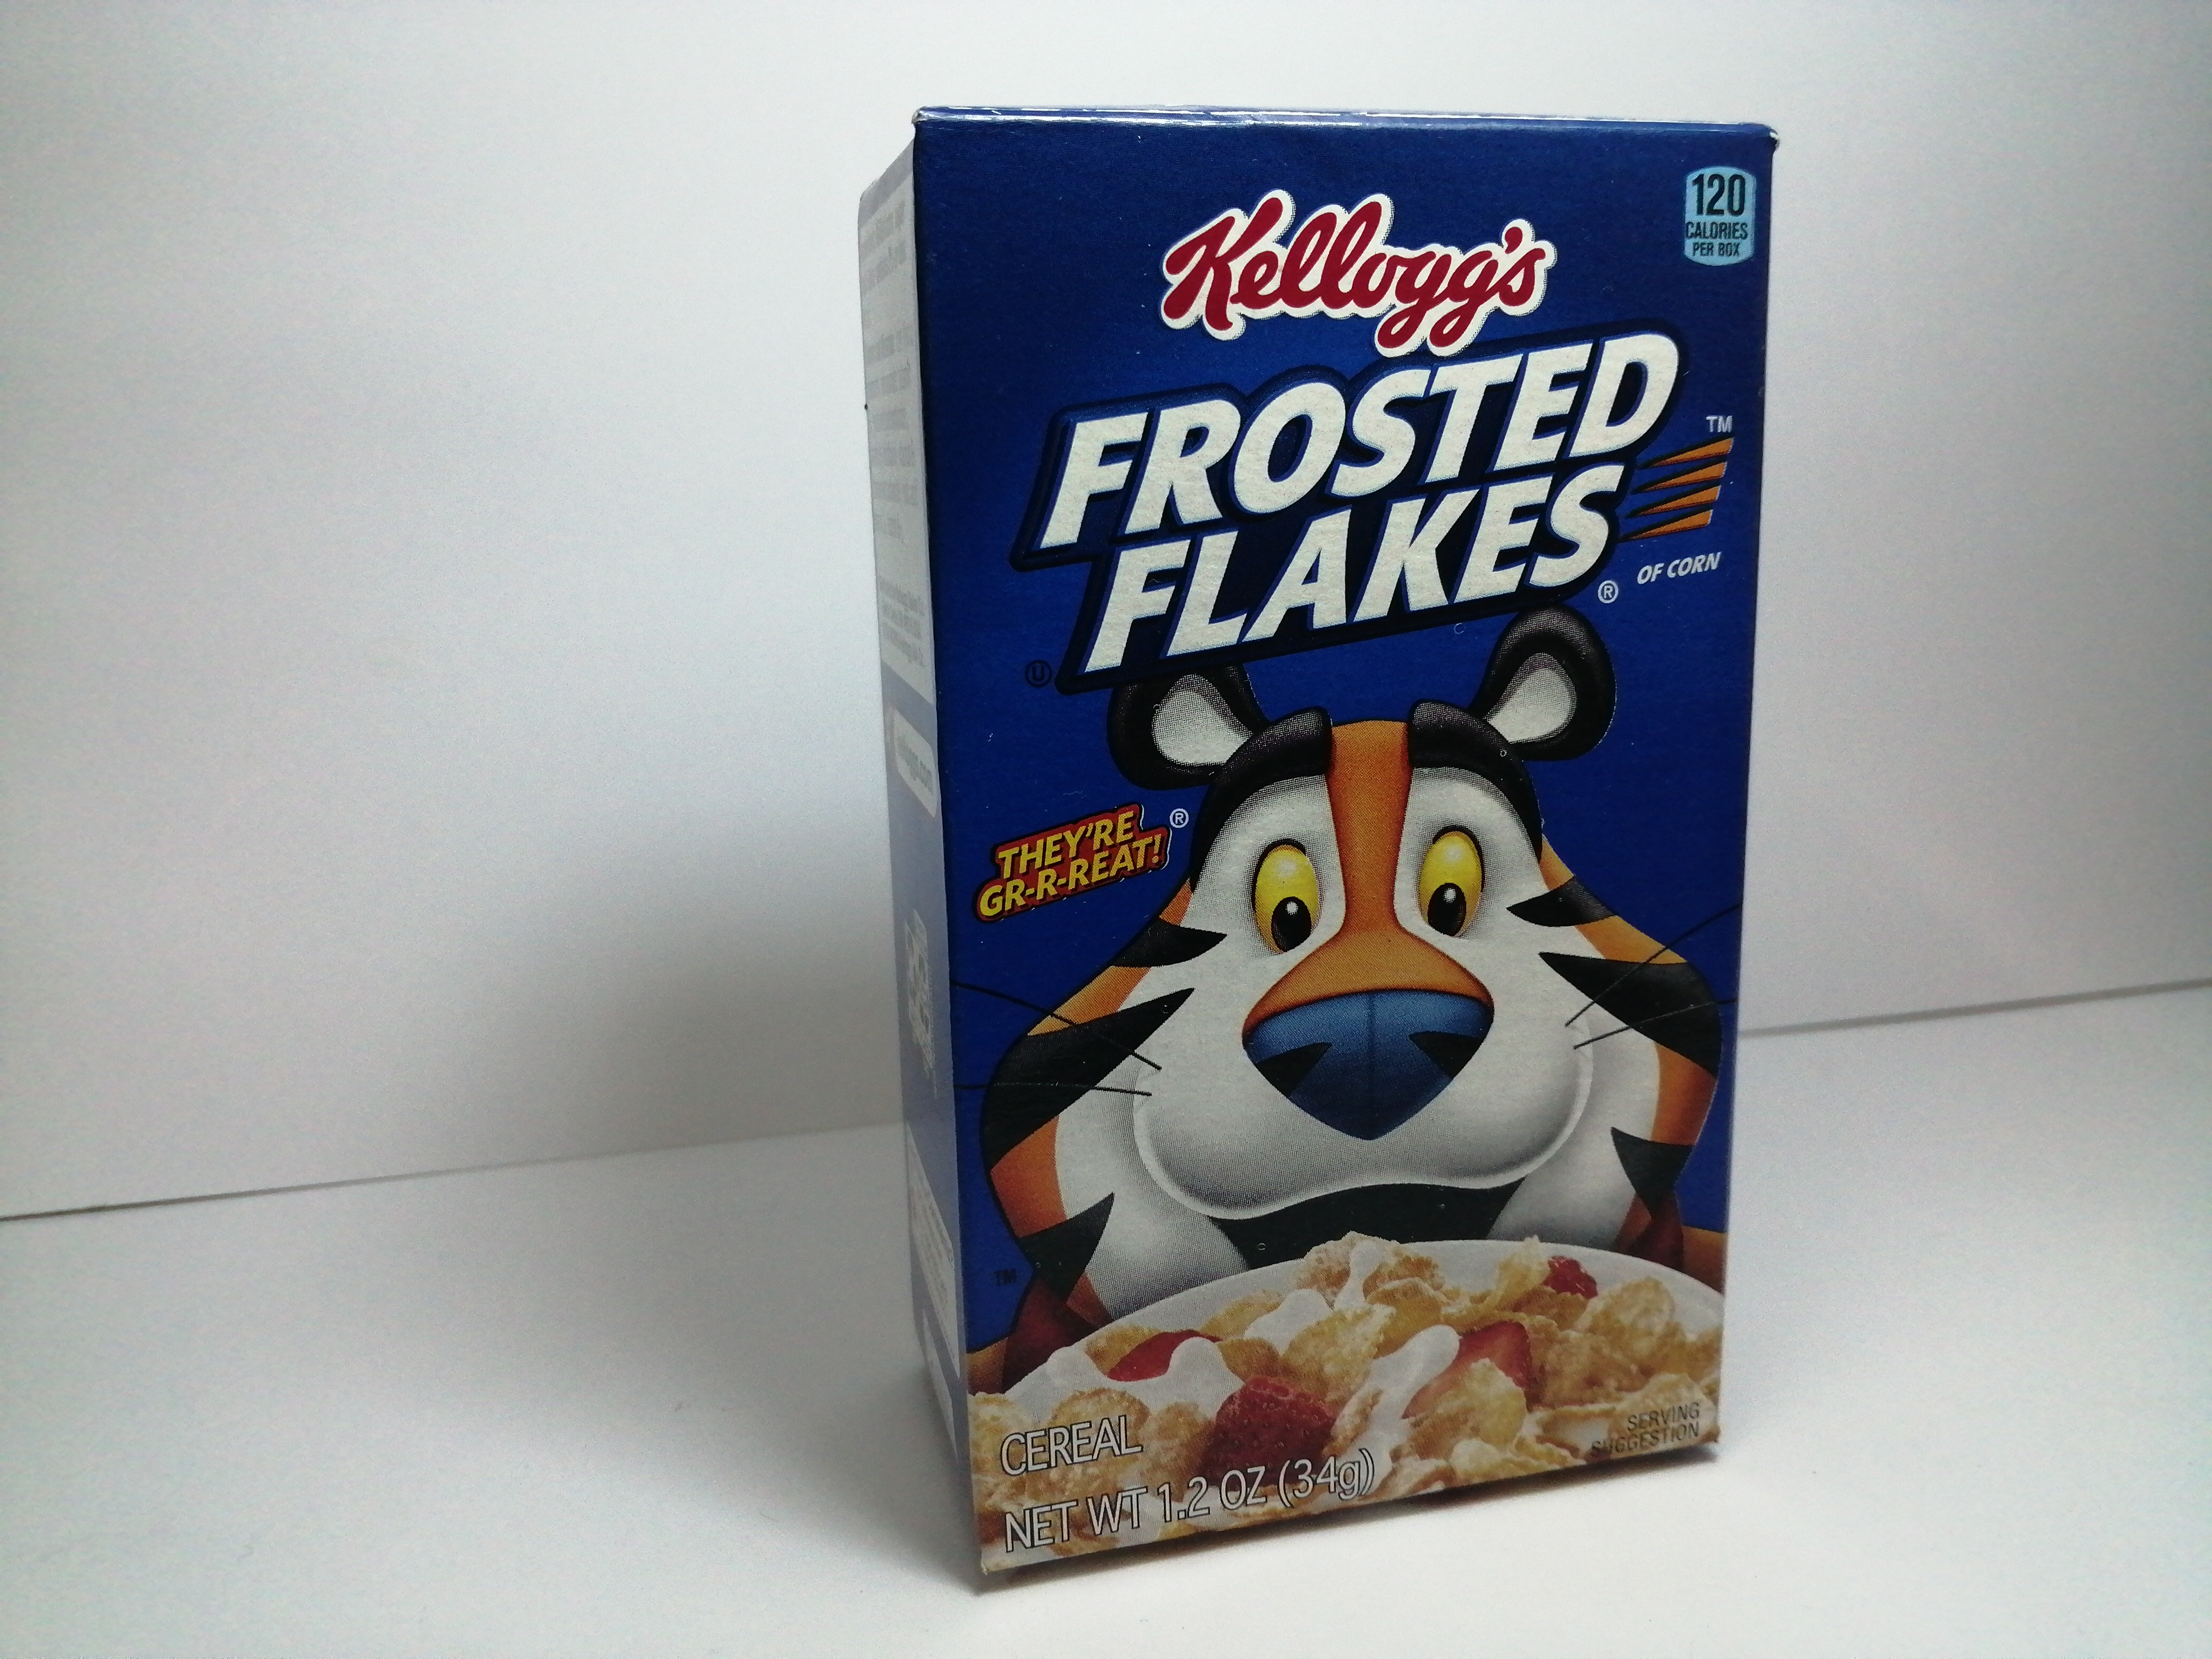cereal azucarado: (841, 71, 1778, 1586)
